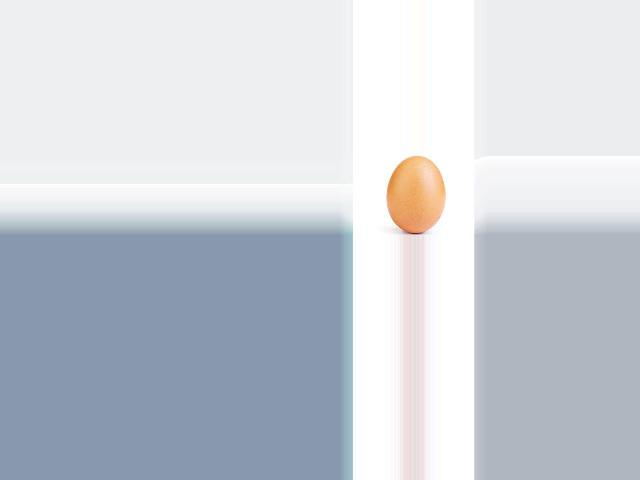egg: (386, 156, 445, 233)
